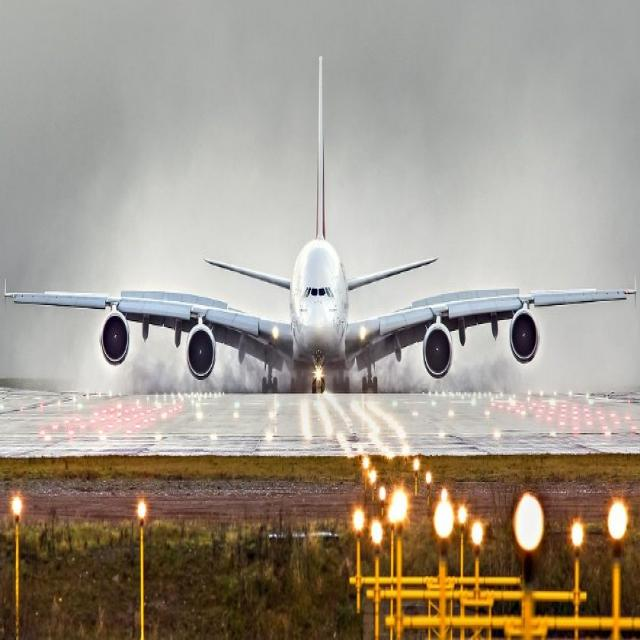A380: (1, 57, 638, 388)
